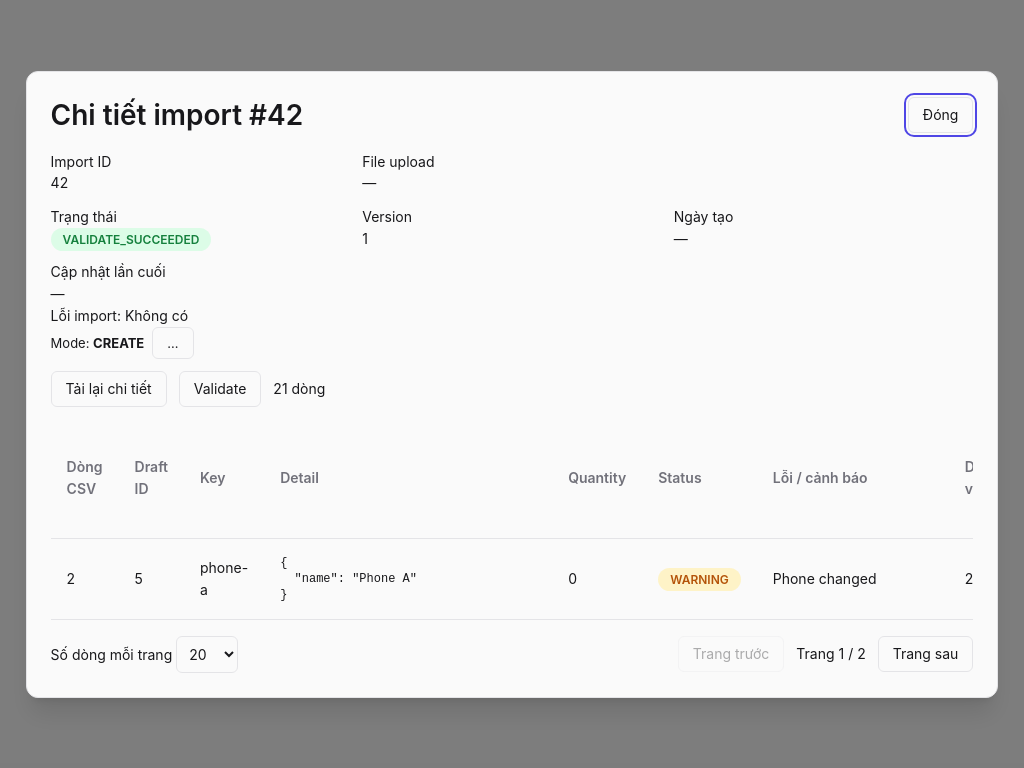
Scenario: shows all draft fields, loads another page and closes the dialog
Later steps or results of the test are not shown.
Expected: the text "phone-a" is shown, [184,538,264,619]
Expected: the text "{ \"name\": \"Phone A\" }" is shown, [280,556,417,602]
Click the button "Trang sau" at (926, 654), box [878,636,973,672]
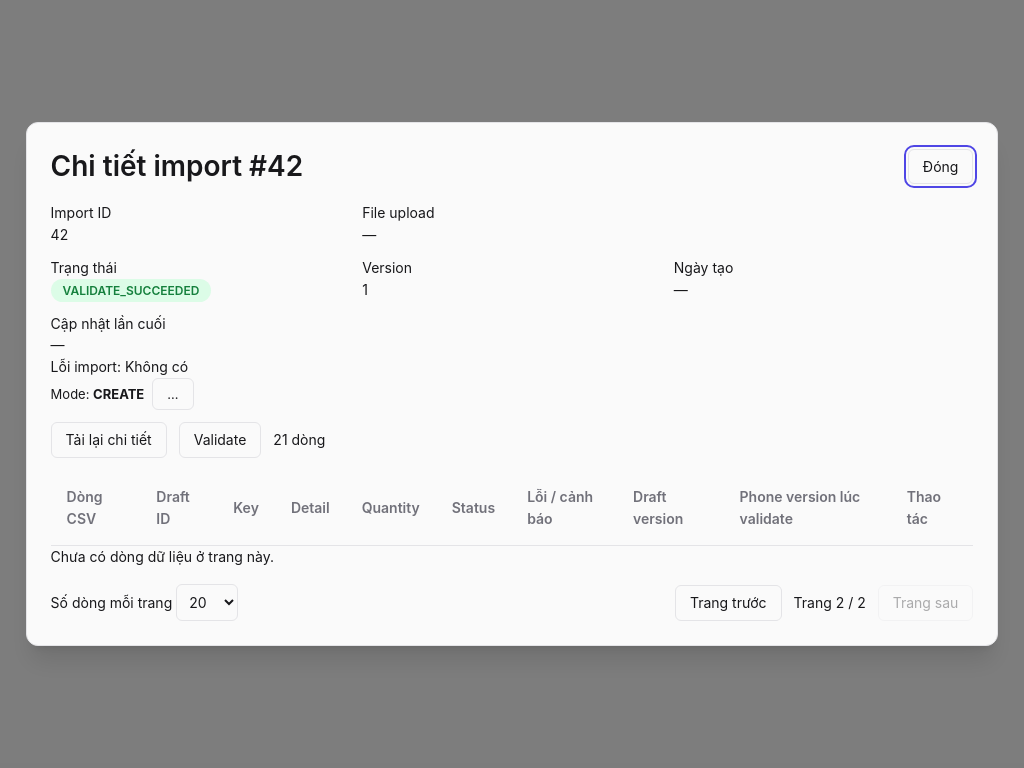
Now the text "Chưa có dòng dữ liệu ở trang này." is shown, box [51,548,274,566]
